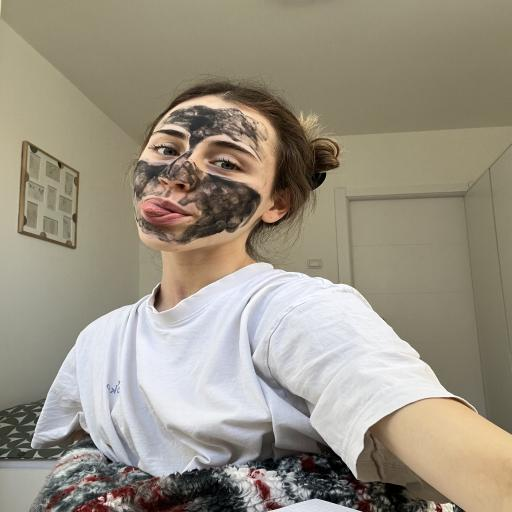masa: (132, 89, 272, 249)
